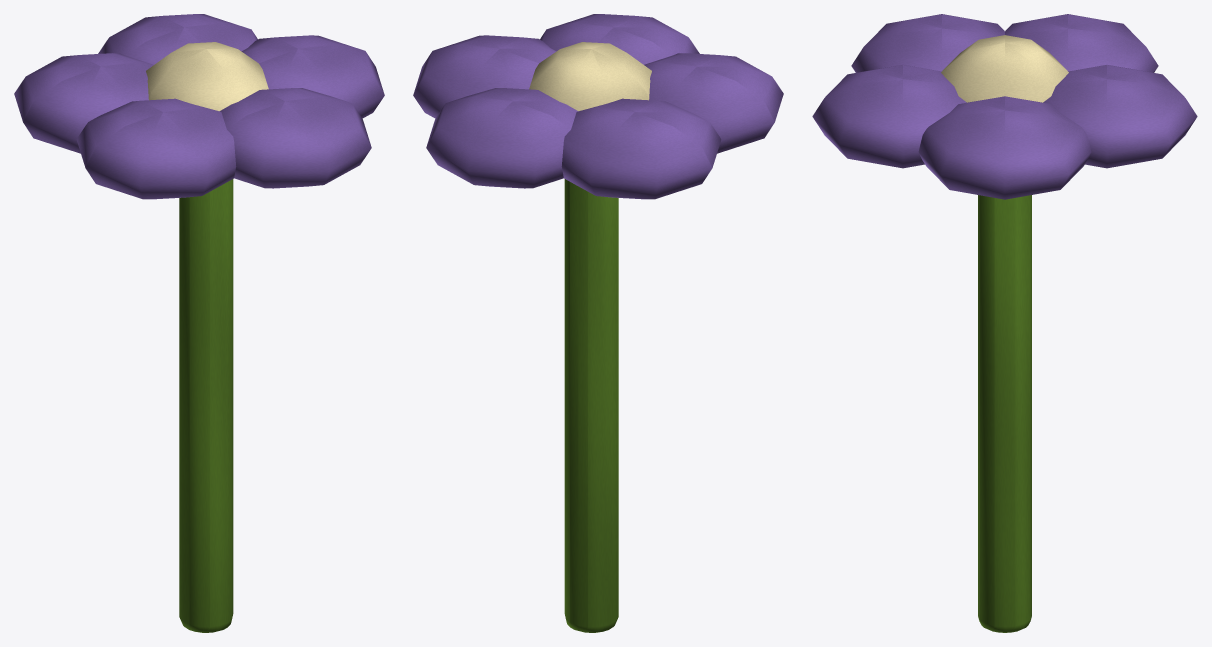
Rendered from flower.glb.
The picture shows the model from 3 angles, left to right: view 1: azimuth 30°, elevation 25°; view 2: azimuth 150°, elevation 25°; view 3: azimuth 270°, elevation 25°; orthographic projection.
Parts seen in each view (by area): view 1: Flower stem; view 2: Flower stem; view 3: Flower stem.
Part boxes in pixels (bbox=[...]): Flower stem: bbox=[14, 14, 384, 632]; Flower stem: bbox=[413, 14, 783, 632]; Flower stem: bbox=[812, 14, 1197, 632].
Size of the model in its own units: 0.2276 by 0.39 by 0.2336.
1 material, 1 textured.
